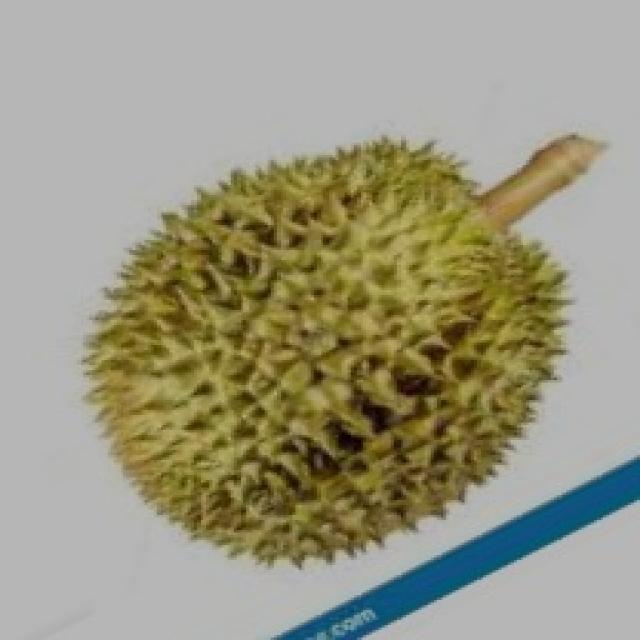fruit: (216, 242, 624, 632), (34, 220, 388, 625)
